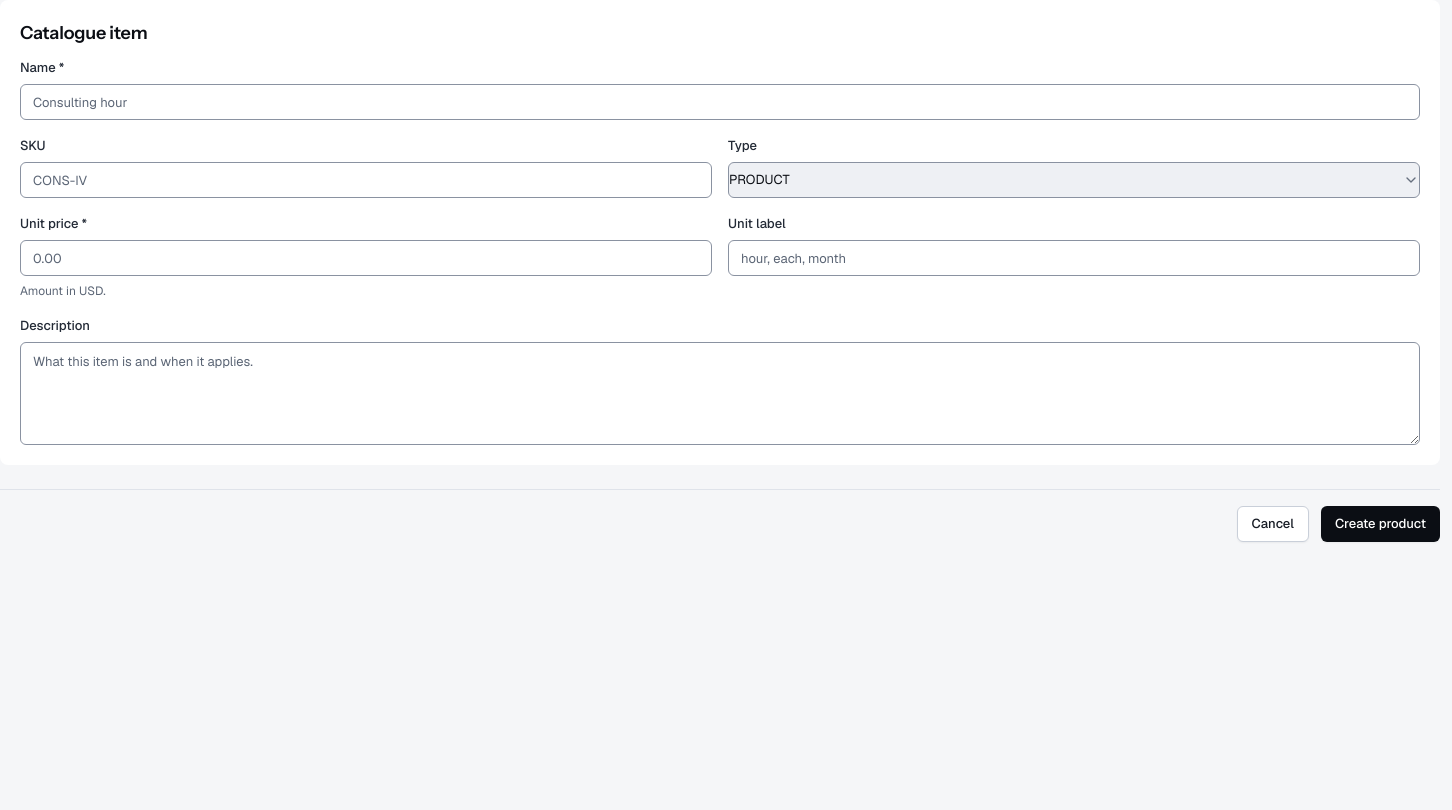
Test: validation › refuses a price that is not a number
Type "Widget" into the field labelled "Name *". click: (720, 102)
box: [20,84,1420,120]
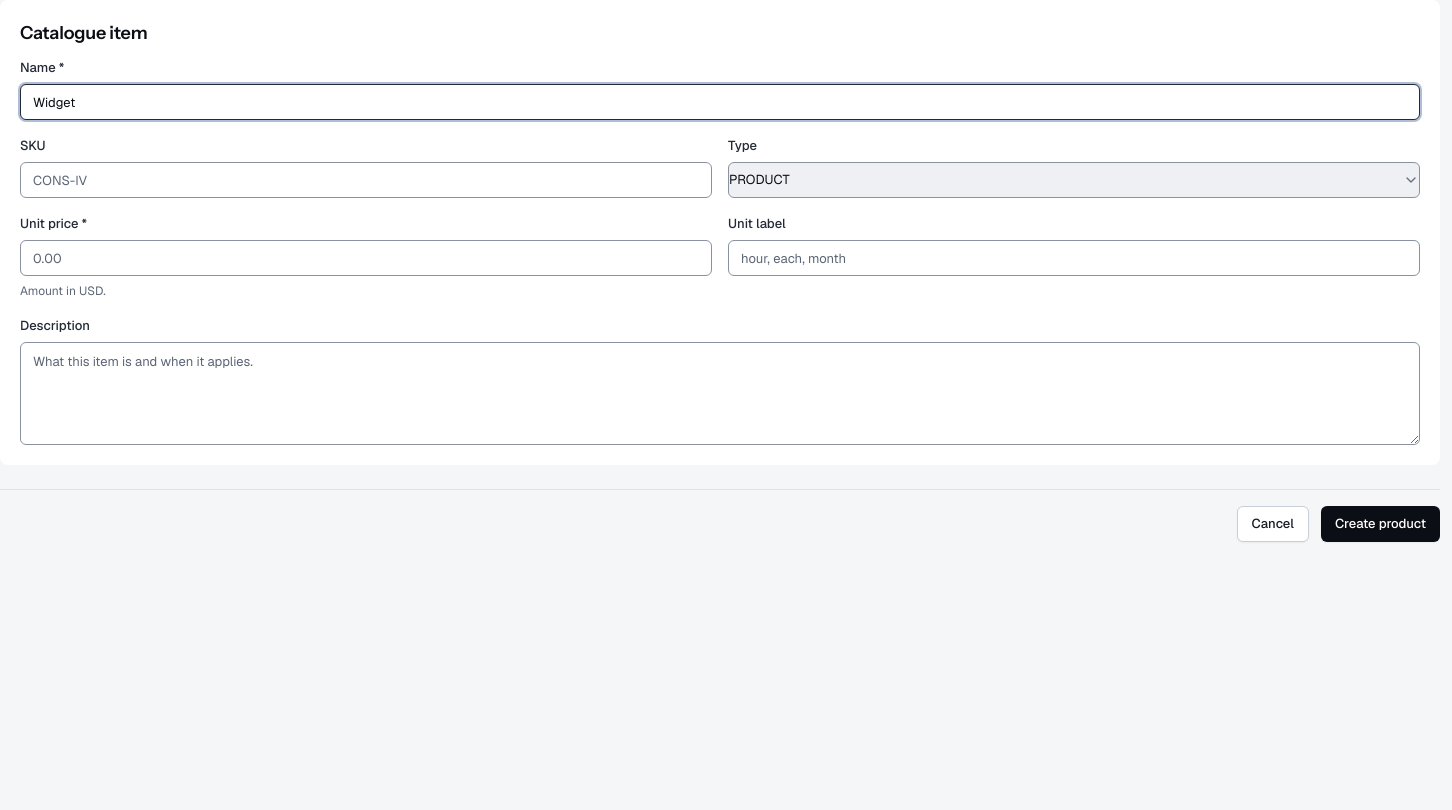
Type "abc" into the field labelled "Unit price *". click: (366, 258)
box: [20,240,712,276]
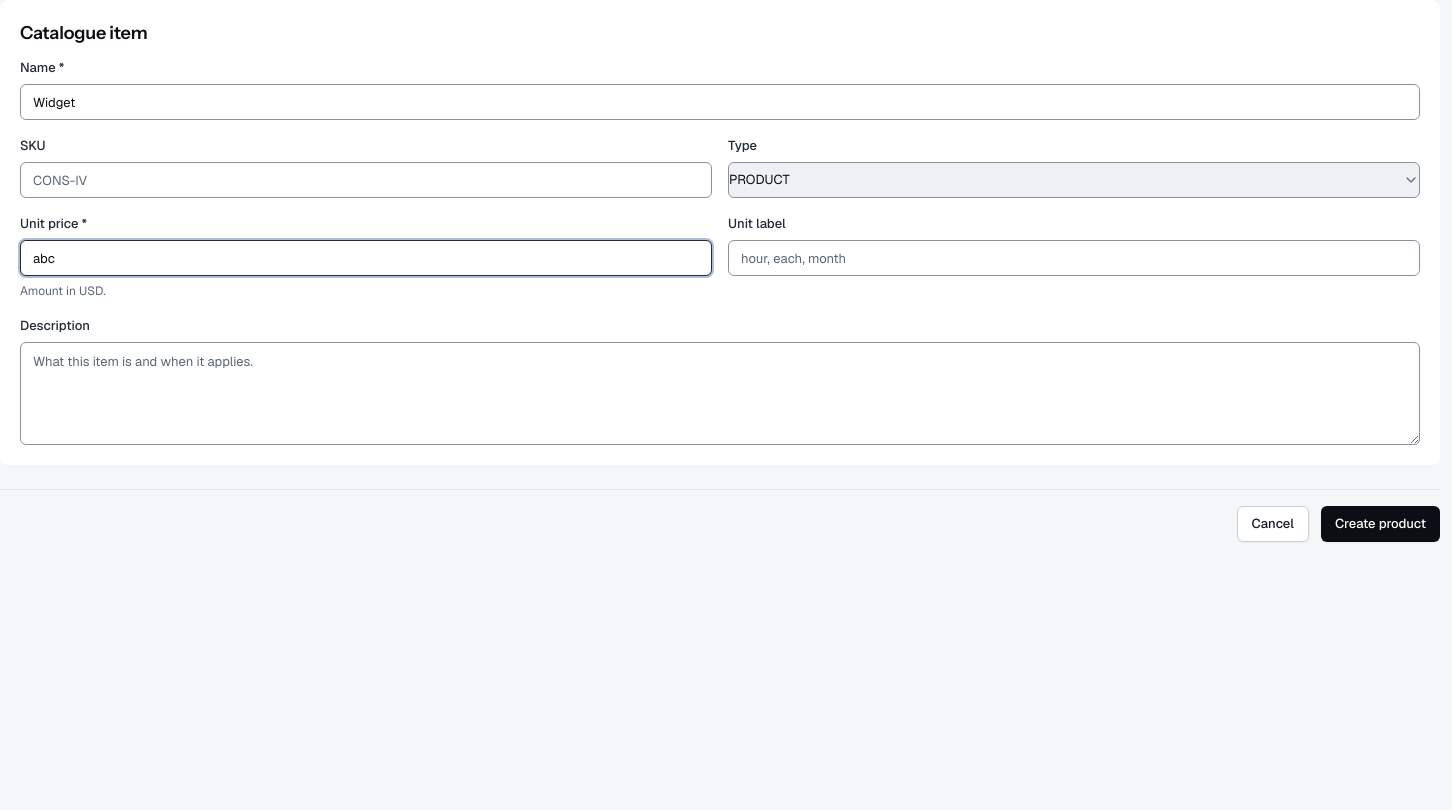
Click the button "Create product". click: (1380, 524)
box: [1321,506,1440,542]
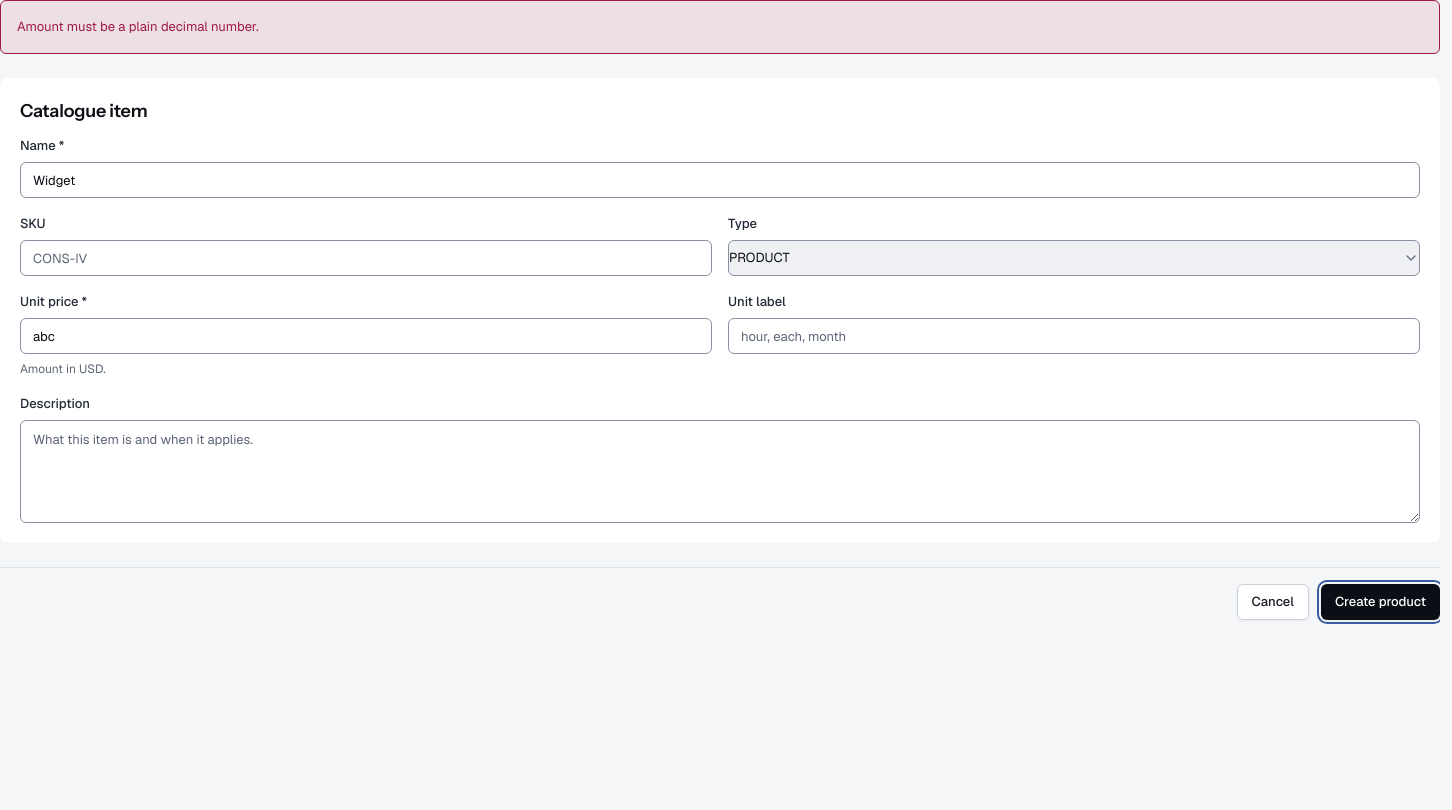
Expected: the message "Amount must be a plain decimal number." is shown, [0,0,1440,54]
